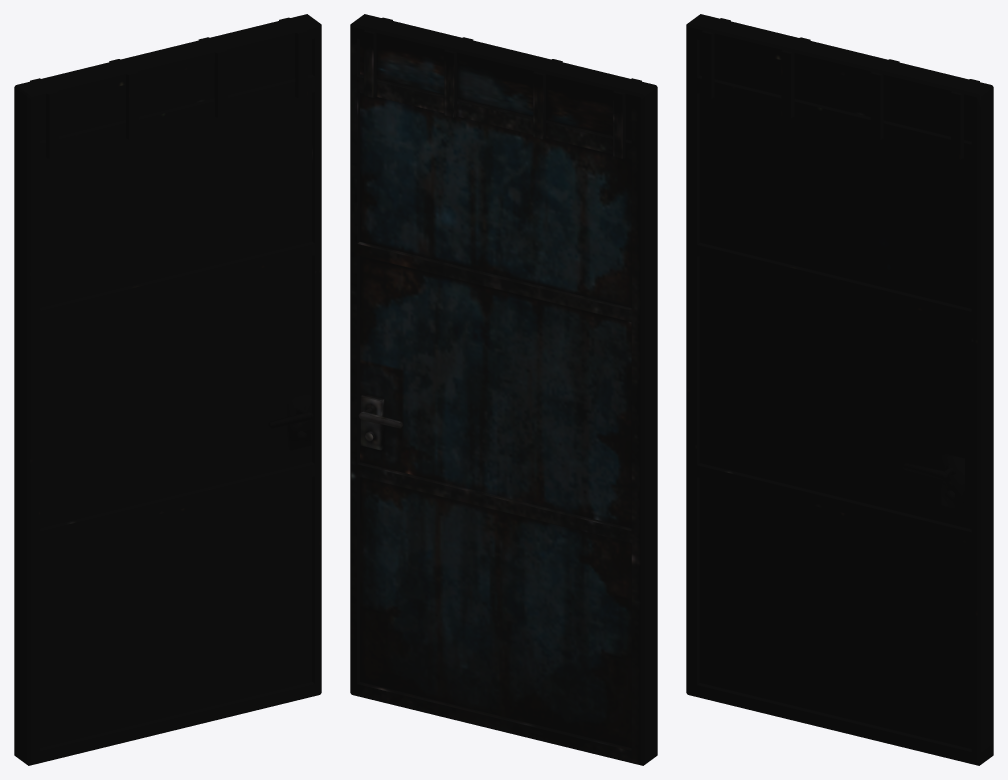
The model's file is portemetal.glb.
The picture shows the model from 3 angles, left to right: view 1: azimuth 30°, elevation 25°; view 2: azimuth 150°, elevation 25°; view 3: azimuth 330°, elevation 25°; orthographic projection.
Parts seen in each view (by area): view 1: Scene_Cycles_Baked; view 2: Scene_Cycles_Baked; view 3: Scene_Cycles_Baked.
Boxes of the visible parts, x1,y1,x2,y2 form: Scene_Cycles_Baked: (14, 14, 321, 765); Scene_Cycles_Baked: (350, 14, 657, 765); Scene_Cycles_Baked: (686, 14, 993, 765).
Size of the model in its own units: 1.12 by 2.44 by 0.2595.
1 material, 1 textured.
